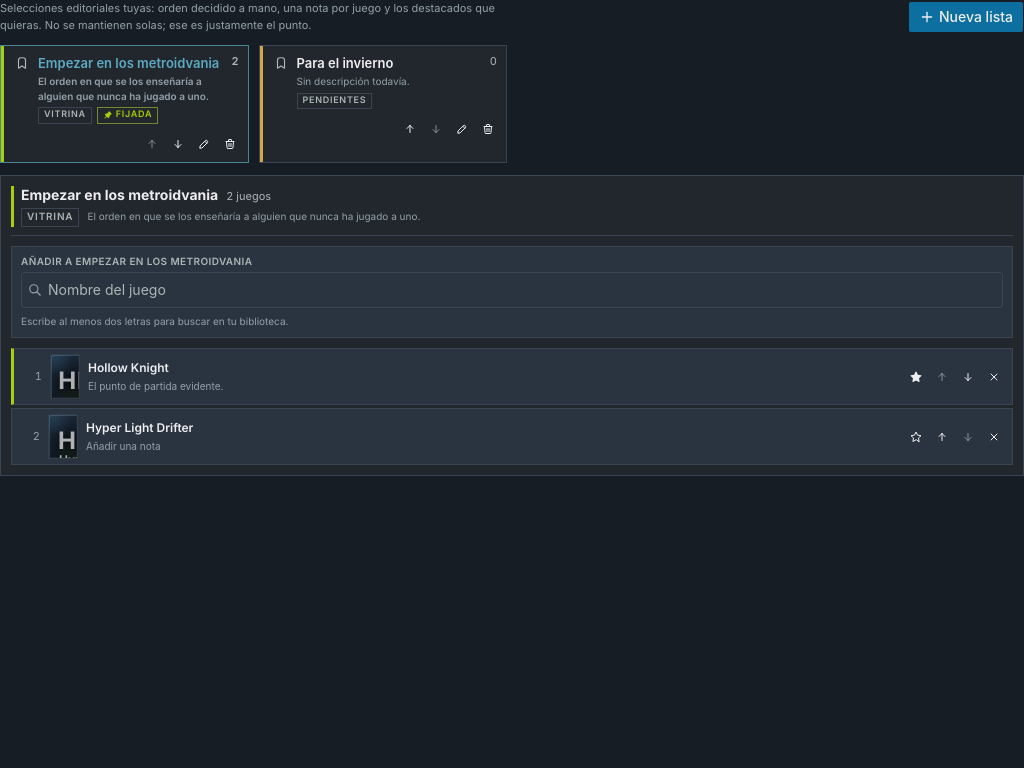
listas curadas › no guarda una lista sin nombre
The width and height of the screenshot is (1024, 768).
Check: the button "Empezar en los metroidvania" is shown, box [38,54,224,72]
Click the button "Nueva lista".
click(966, 16)  # box [908,0,1023,32]
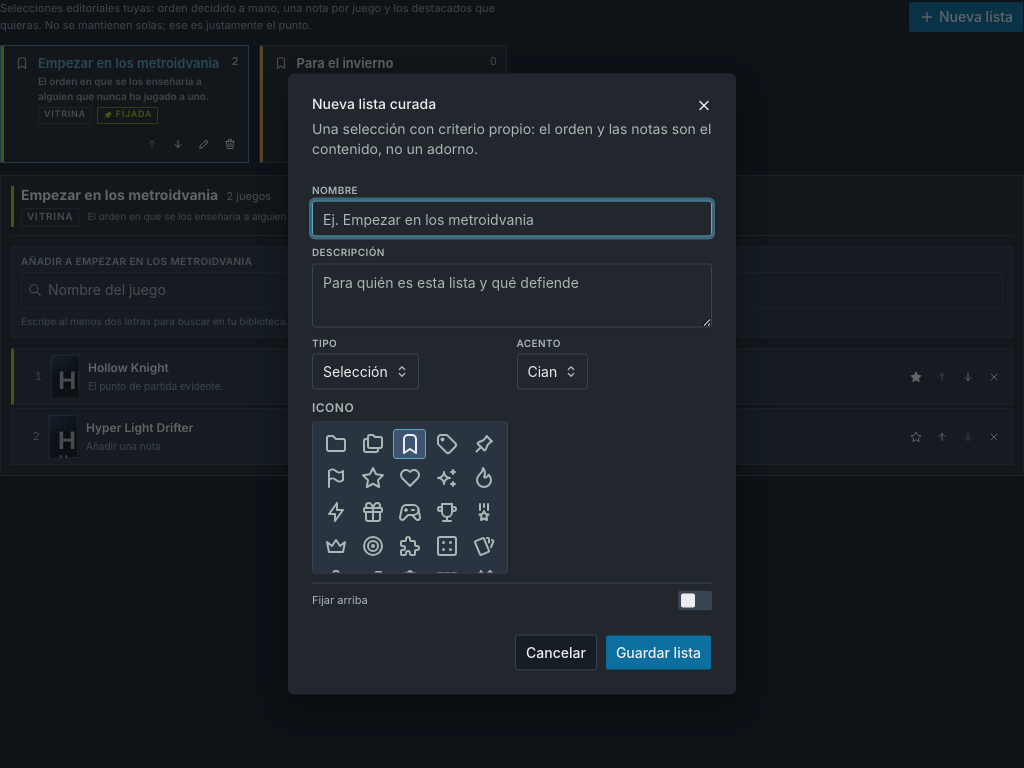
Click the button "Guardar lista".
click(658, 652)  # box [605,634,712,670]
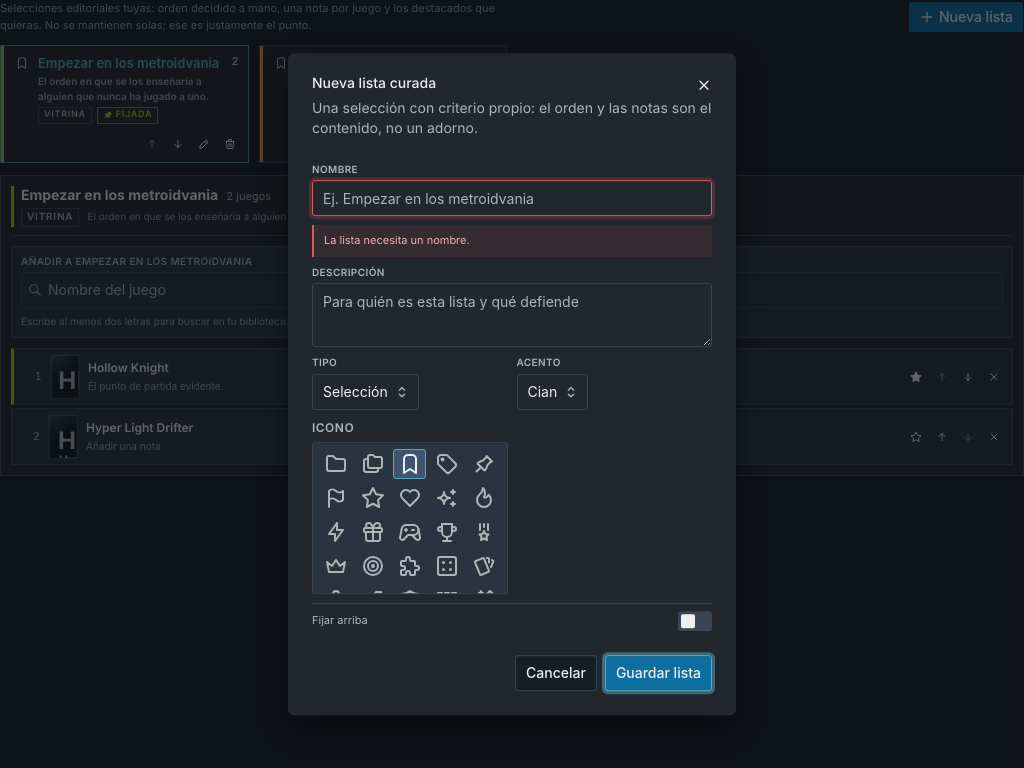
Check: the message reads "La lista necesita un nombre.", box [324,233,470,247]
